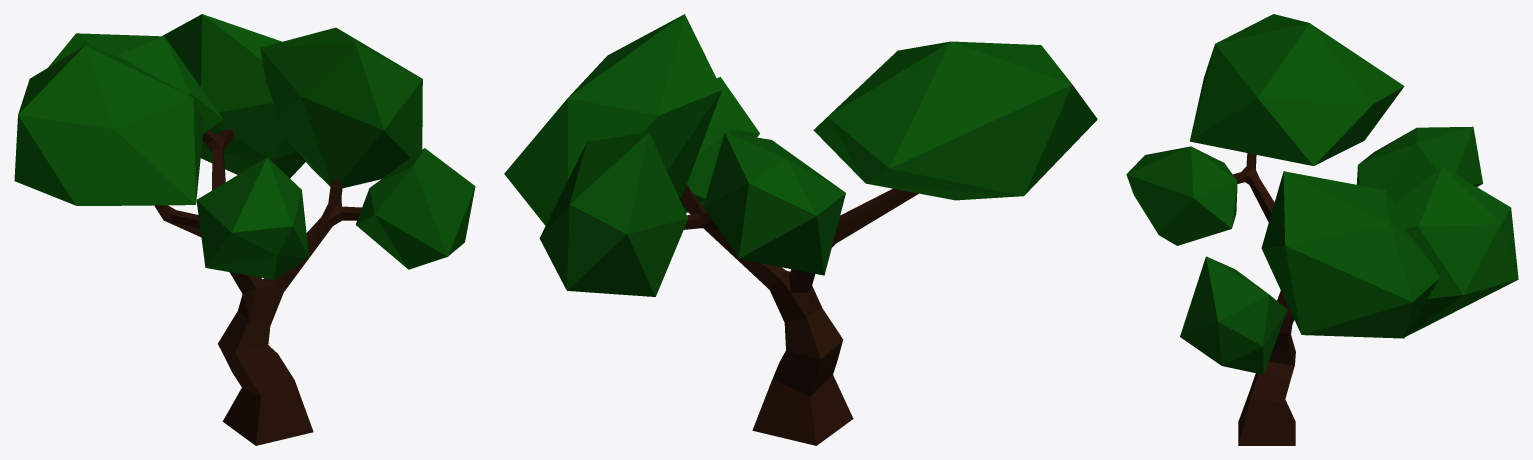
The model's file is naormale boom.fbx.
3 renders of one model, left to right at view 1: azimuth 30°, elevation 25°; view 2: azimuth 150°, elevation 25°; view 3: azimuth 270°, elevation 25°, orthographic. The views are drawn at different scales.
Parts seen in each view (by area): view 1: Cube; view 2: Cube; view 3: Cube.
Boxes of the visible parts, x1,y1,x2,y2 form: Cube: (14, 14, 475, 445); Cube: (504, 14, 1097, 445); Cube: (1126, 14, 1518, 445).
Bounding box in the file's own units: 4.34 × 3.88 × 4.
